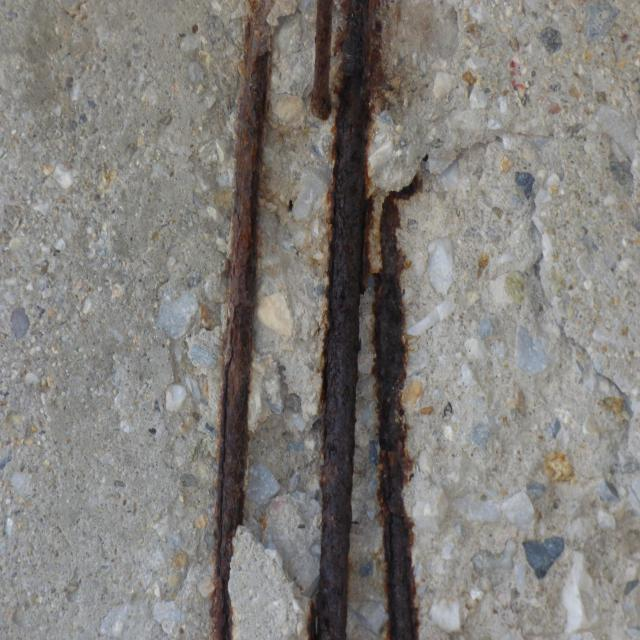Rebar: (168, 0, 423, 640)
diagonal crack: (464, 130, 640, 473)
vertical crack: (607, 23, 640, 127)
